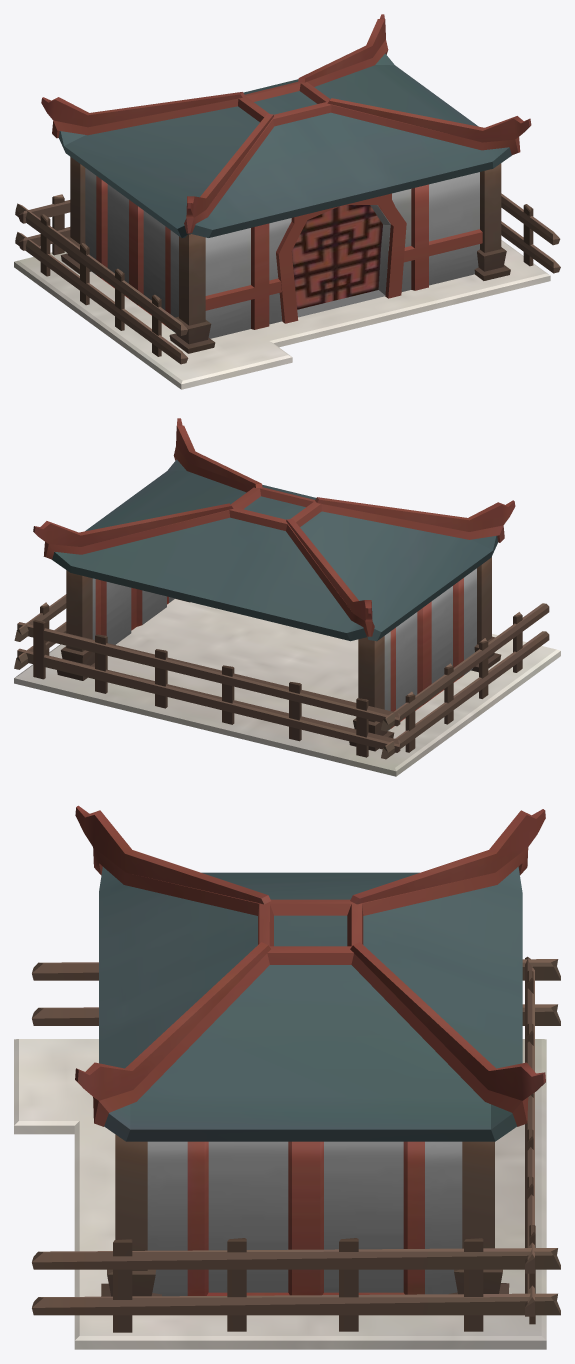
The model's file is blacksmith_2lvl.fbx.
3 renders of one model, top to bottom at view 1: azimuth 30°, elevation 25°; view 2: azimuth 150°, elevation 25°; view 3: azimuth 270°, elevation 25°, orthographic. The views are drawn at different scales.
Parts seen in each view (by area): view 1: blacksmith_2lvl; view 2: blacksmith_2lvl; view 3: blacksmith_2lvl.
Part boxes in pixels (x1,y1,x2,y2): blacksmith_2lvl: (14, 14, 560, 389); blacksmith_2lvl: (14, 418, 560, 776); blacksmith_2lvl: (14, 805, 560, 1349).
Size of the model in its own units: 6.01 by 2.61 by 4.6.
